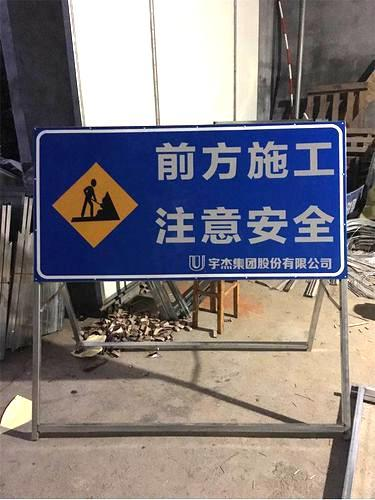sign: (35, 129, 346, 278)
